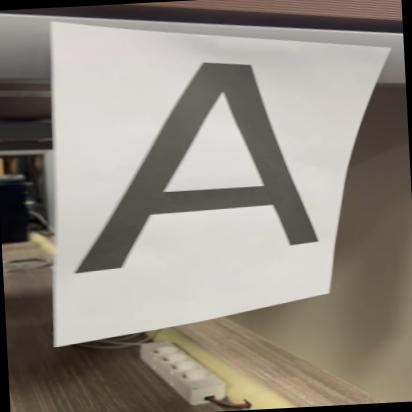seat: (56, 44, 324, 278)
